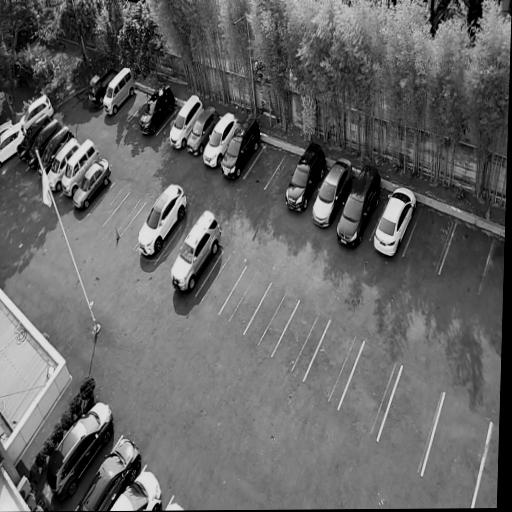Car: (43, 391, 118, 509), (74, 426, 148, 511), (165, 205, 226, 298), (133, 178, 193, 263), (334, 157, 388, 251), (367, 180, 422, 262), (281, 135, 332, 219), (307, 150, 358, 234), (218, 109, 267, 183), (68, 153, 117, 217), (108, 463, 168, 511), (59, 137, 104, 199), (199, 107, 242, 171), (135, 79, 179, 139), (165, 90, 205, 153), (43, 135, 81, 194), (100, 61, 140, 117), (35, 124, 76, 178), (14, 110, 55, 163), (183, 102, 221, 159), (24, 118, 64, 171), (86, 63, 119, 105), (18, 93, 55, 129), (0, 121, 28, 168), (162, 497, 187, 511), (0, 119, 14, 137)
Space Available: (422, 393, 492, 507), (376, 364, 445, 475), (337, 337, 404, 440), (304, 318, 364, 409), (270, 297, 332, 380), (243, 282, 301, 356), (439, 218, 495, 292), (403, 205, 458, 273), (195, 248, 247, 313), (219, 267, 271, 331), (102, 191, 146, 237), (244, 143, 287, 190), (87, 181, 130, 226), (480, 236, 505, 303), (155, 224, 189, 271), (265, 151, 300, 195), (119, 201, 153, 242), (115, 90, 150, 122), (156, 107, 180, 140), (128, 95, 152, 125)
